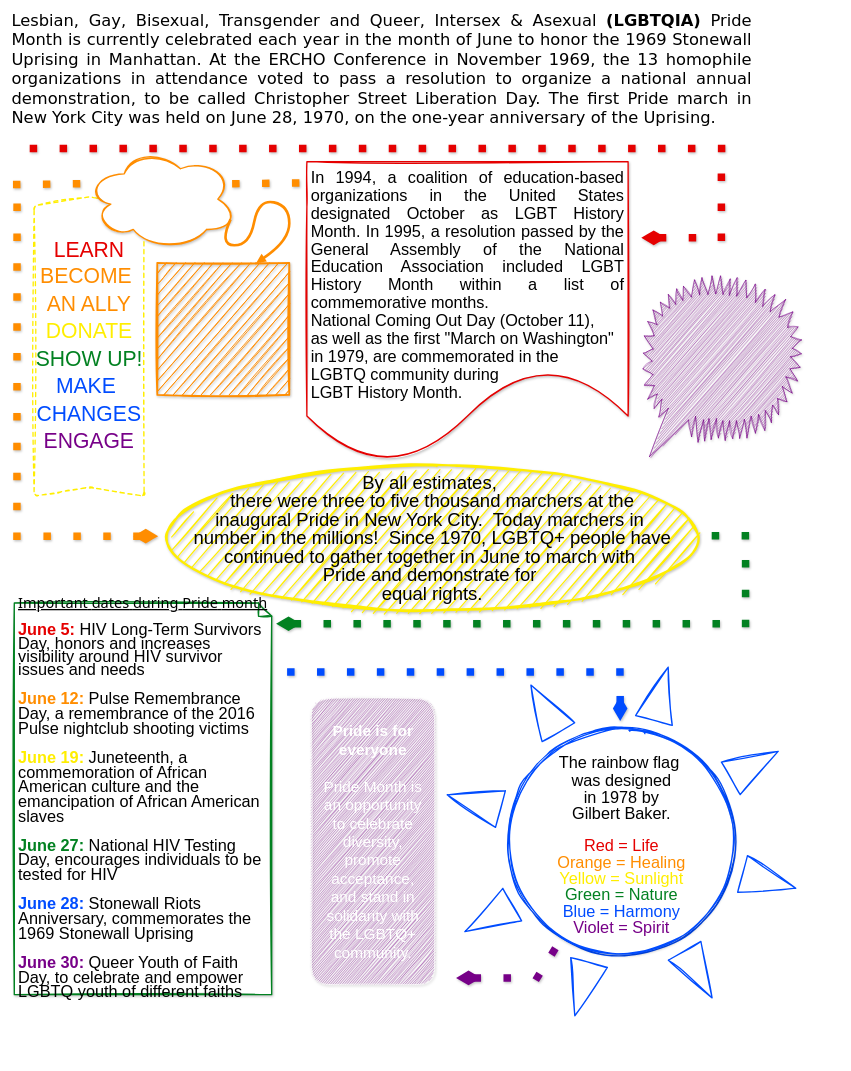
This 851x1071 diagram has some shape labels left out. The shapes that lost their labels are listed below. From the top down, each one's centre as x and y in pixels, then its label:
At pixel 162 199: "Listen to the DE&I Pride Month Playlist".
At pixel 722 367: "Brenda Howard is known as the 'Mother of Pride'".
